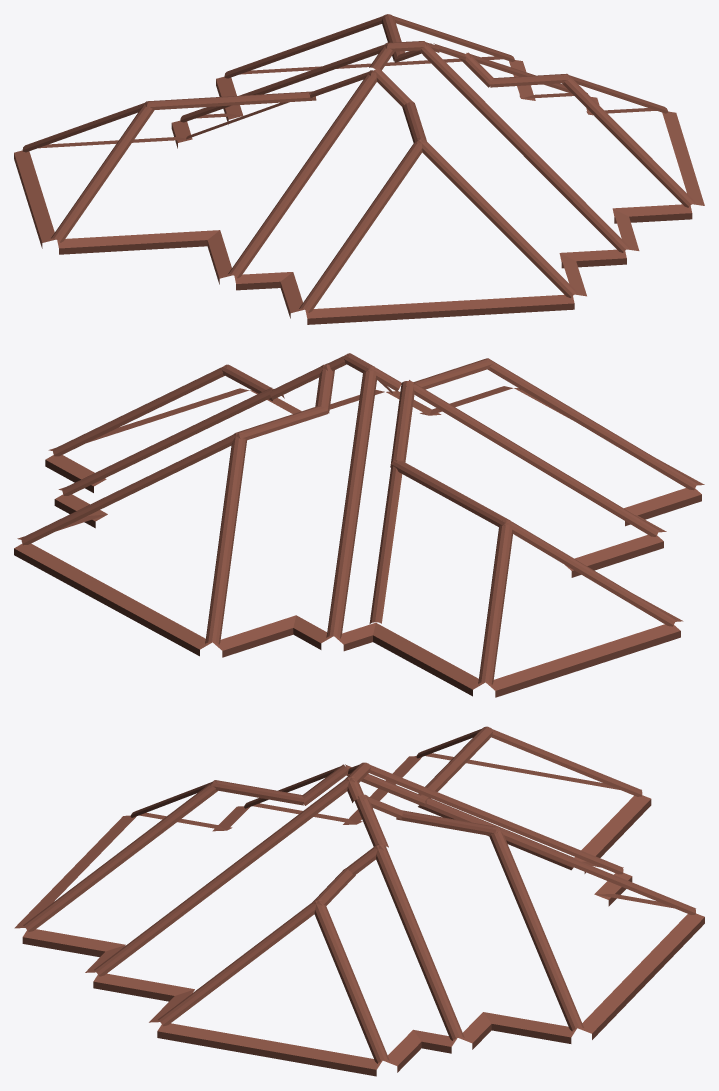
The picture shows the model from 3 angles, top to bottom: view 1: azimuth 30°, elevation 25°; view 2: azimuth 150°, elevation 25°; view 3: azimuth 270°, elevation 25°; orthographic projection. The views are drawn at different scales.
Parts seen in each view (by area): view 1: detail; view 2: detail; view 3: detail.
Boxes of the visible parts, x1,y1,x2,y2 form: detail: [14, 14, 704, 324]; detail: [14, 353, 704, 697]; detail: [14, 726, 704, 1076].
Size of the model in its own units: 15.21 by 3.73 by 14.01.
